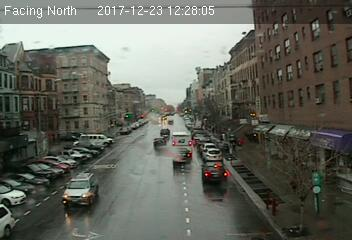car: (60, 172, 101, 207), (201, 162, 228, 185), (171, 147, 191, 164), (201, 149, 223, 161), (152, 136, 167, 146)
truck: (171, 131, 192, 149)
